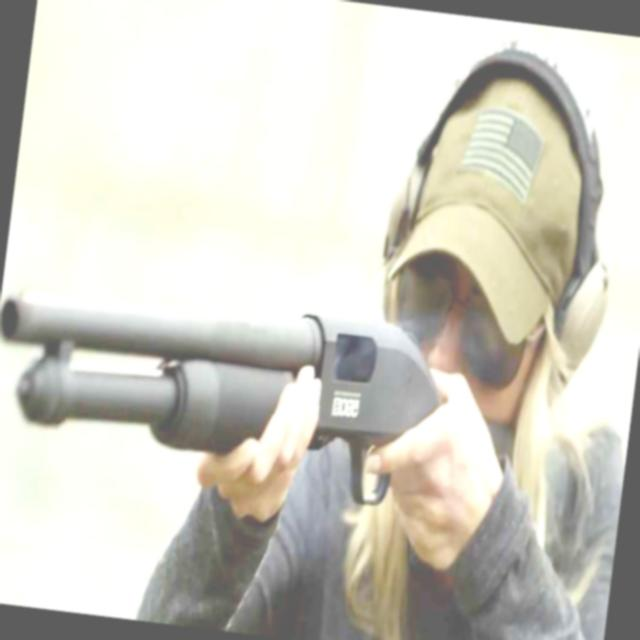shotgun: (0, 263, 477, 547)
